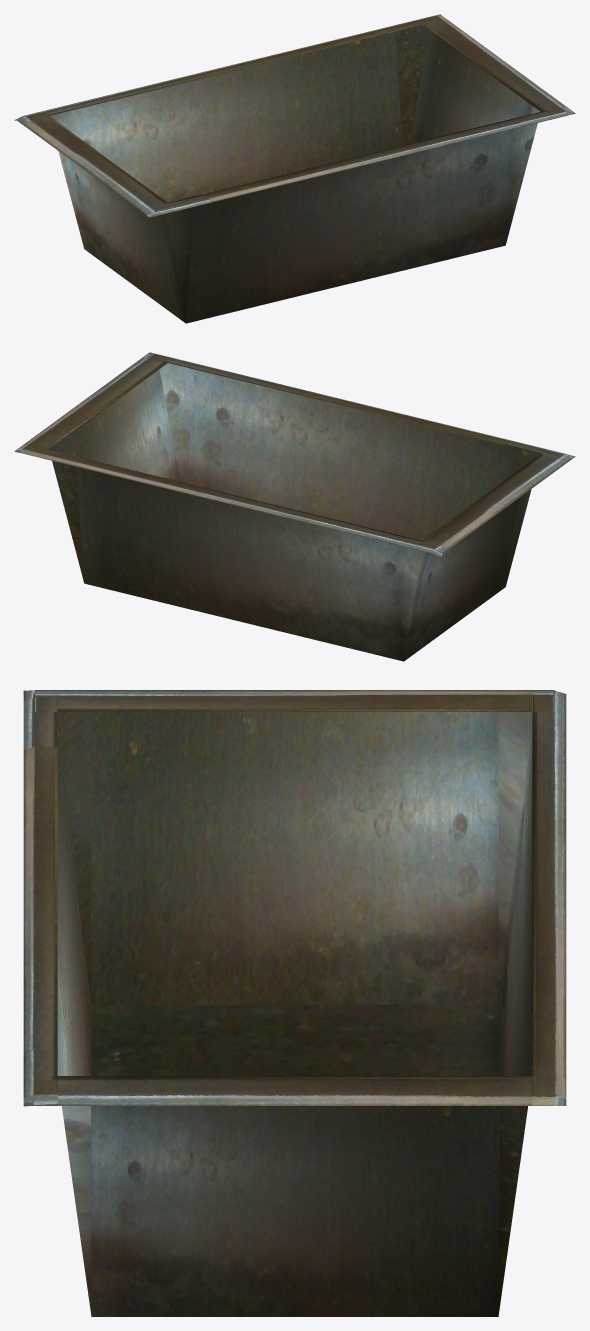
File: sinkbasin.fbx
The picture shows the model from 3 angles, top to bottom: view 1: azimuth 30°, elevation 25°; view 2: azimuth 150°, elevation 25°; view 3: azimuth 270°, elevation 25°; orthographic projection. The views are drawn at different scales.
Visible parts, largest first — view 1: Plane; view 2: Plane; view 3: Plane.
Boxes of the visible parts, left/top/right/bottom form: Plane: left=14, top=14, right=575, bottom=323; Plane: left=14, top=352, right=575, bottom=661; Plane: left=23, top=690, right=566, bottom=1316.
Size of the model in its own units: 27.3 by 8.17 by 15.05.
